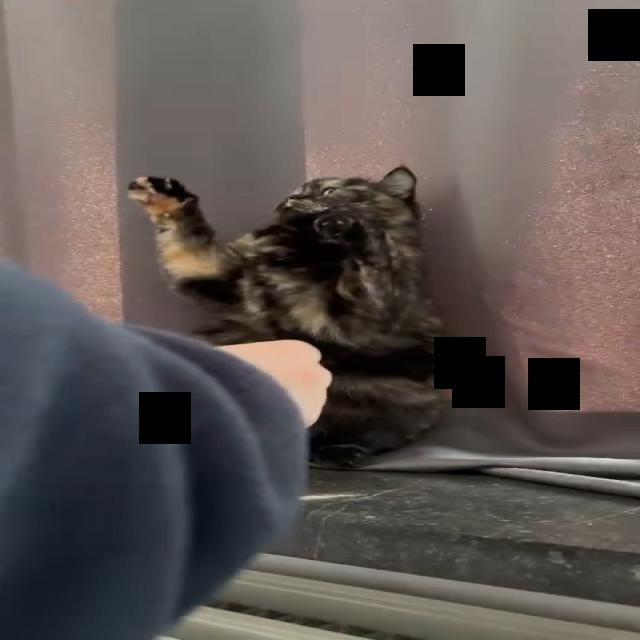authorized: (125, 164, 452, 468)
